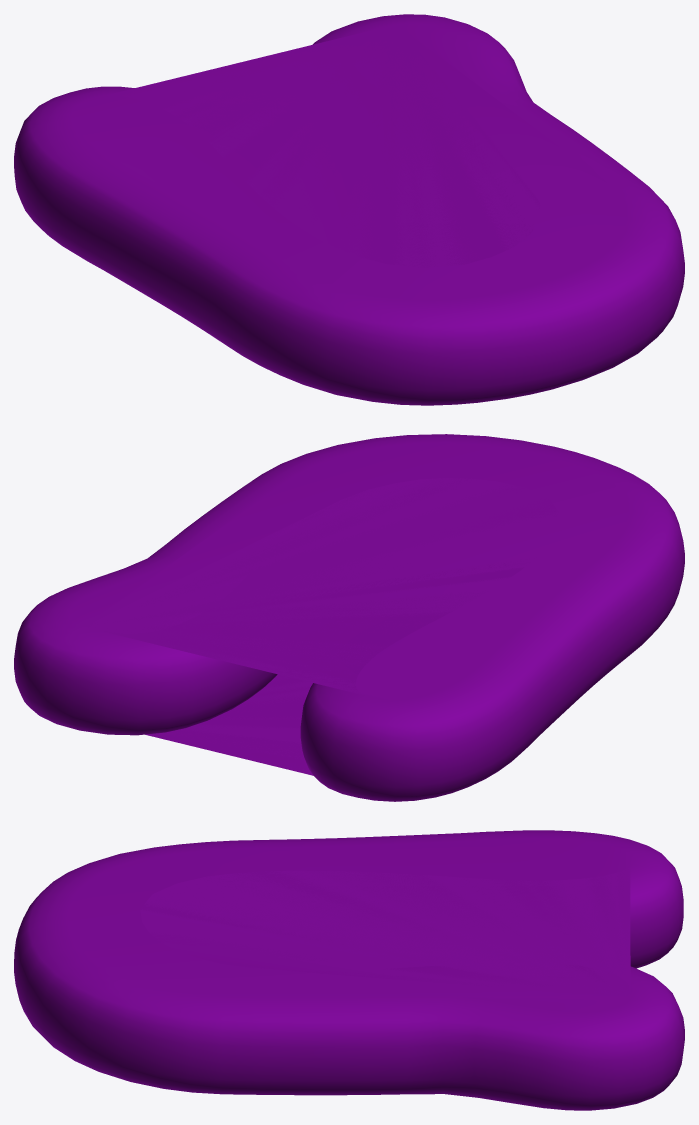
The picture shows the model from 3 angles, top to bottom: view 1: azimuth 30°, elevation 25°; view 2: azimuth 150°, elevation 25°; view 3: azimuth 270°, elevation 25°; orthographic projection. The views are drawn at different scales.
Parts seen in each view (by area): view 1: Curve.022; view 2: Curve.022; view 3: Curve.022.
Boxes of the visible parts, box(x1,y1,x2,y2) form: Curve.022: box(14, 14, 684, 405); Curve.022: box(14, 434, 684, 801); Curve.022: box(14, 830, 684, 1110).
Bounding box in the file's own units: 259 × 49.54 × 336.
Materials: 1 (1 with a texture image).
